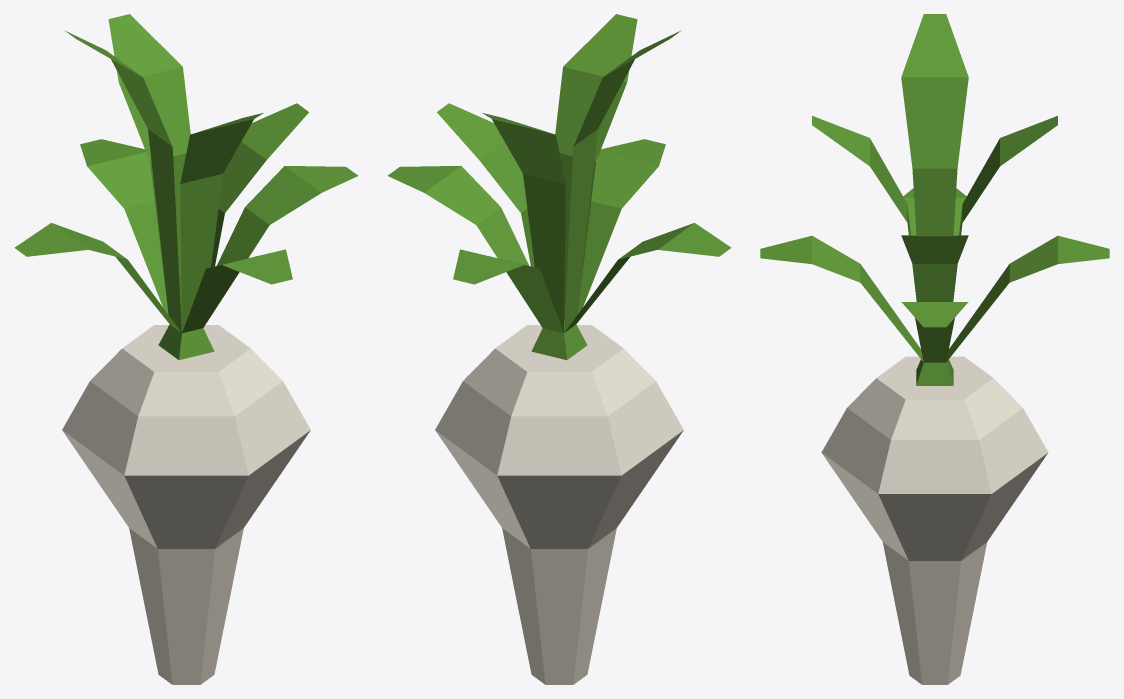
The model's file is crop_turnip.glb.
The picture shows the model from 3 angles, left to right: view 1: azimuth 30°, elevation 25°; view 2: azimuth 150°, elevation 25°; view 3: azimuth 270°, elevation 25°; orthographic projection. The views are drawn at different scales.
Parts seen in each view (by area): view 1: crop_turnip; view 2: crop_turnip; view 3: crop_turnip.
Boxes of the visible parts, x1=… form: crop_turnip: x1=14, y1=14, x2=358, y2=684; crop_turnip: x1=387, y1=14, x2=731, y2=684; crop_turnip: x1=760, y1=14, x2=1109, y2=684.
Bounding box in the file's own units: 0.1818 × 0.35 × 0.1818.
